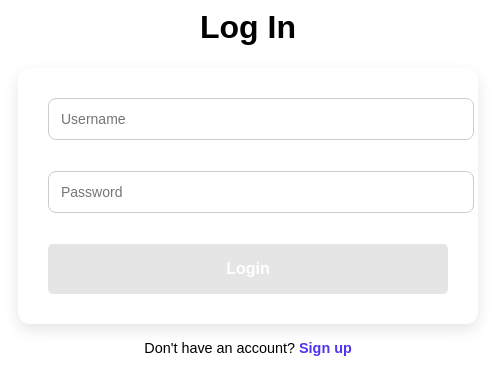
Scenario: Login Page › enables submit button when form is valid
The width and height of the screenshot is (497, 373).
Step 1. Type "user1" into the field with placeholder "Username" → (261, 119), box [48,98,474,140]
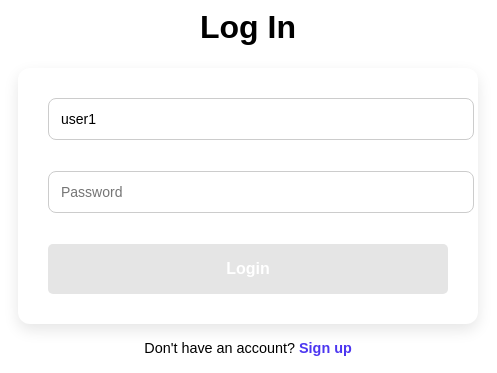
Step 2. Type "pass123" into the password field with placeholder "Password" → (261, 192), box [48,171,474,213]
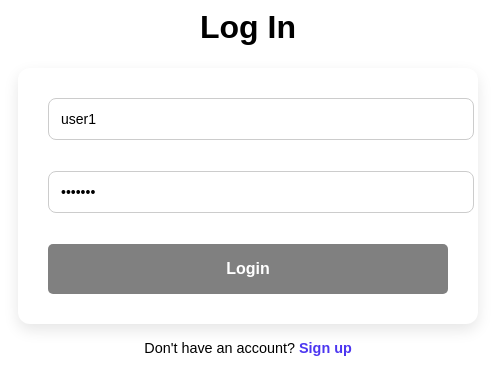
Now the button "Login" is enabled, box [48,244,448,294]
